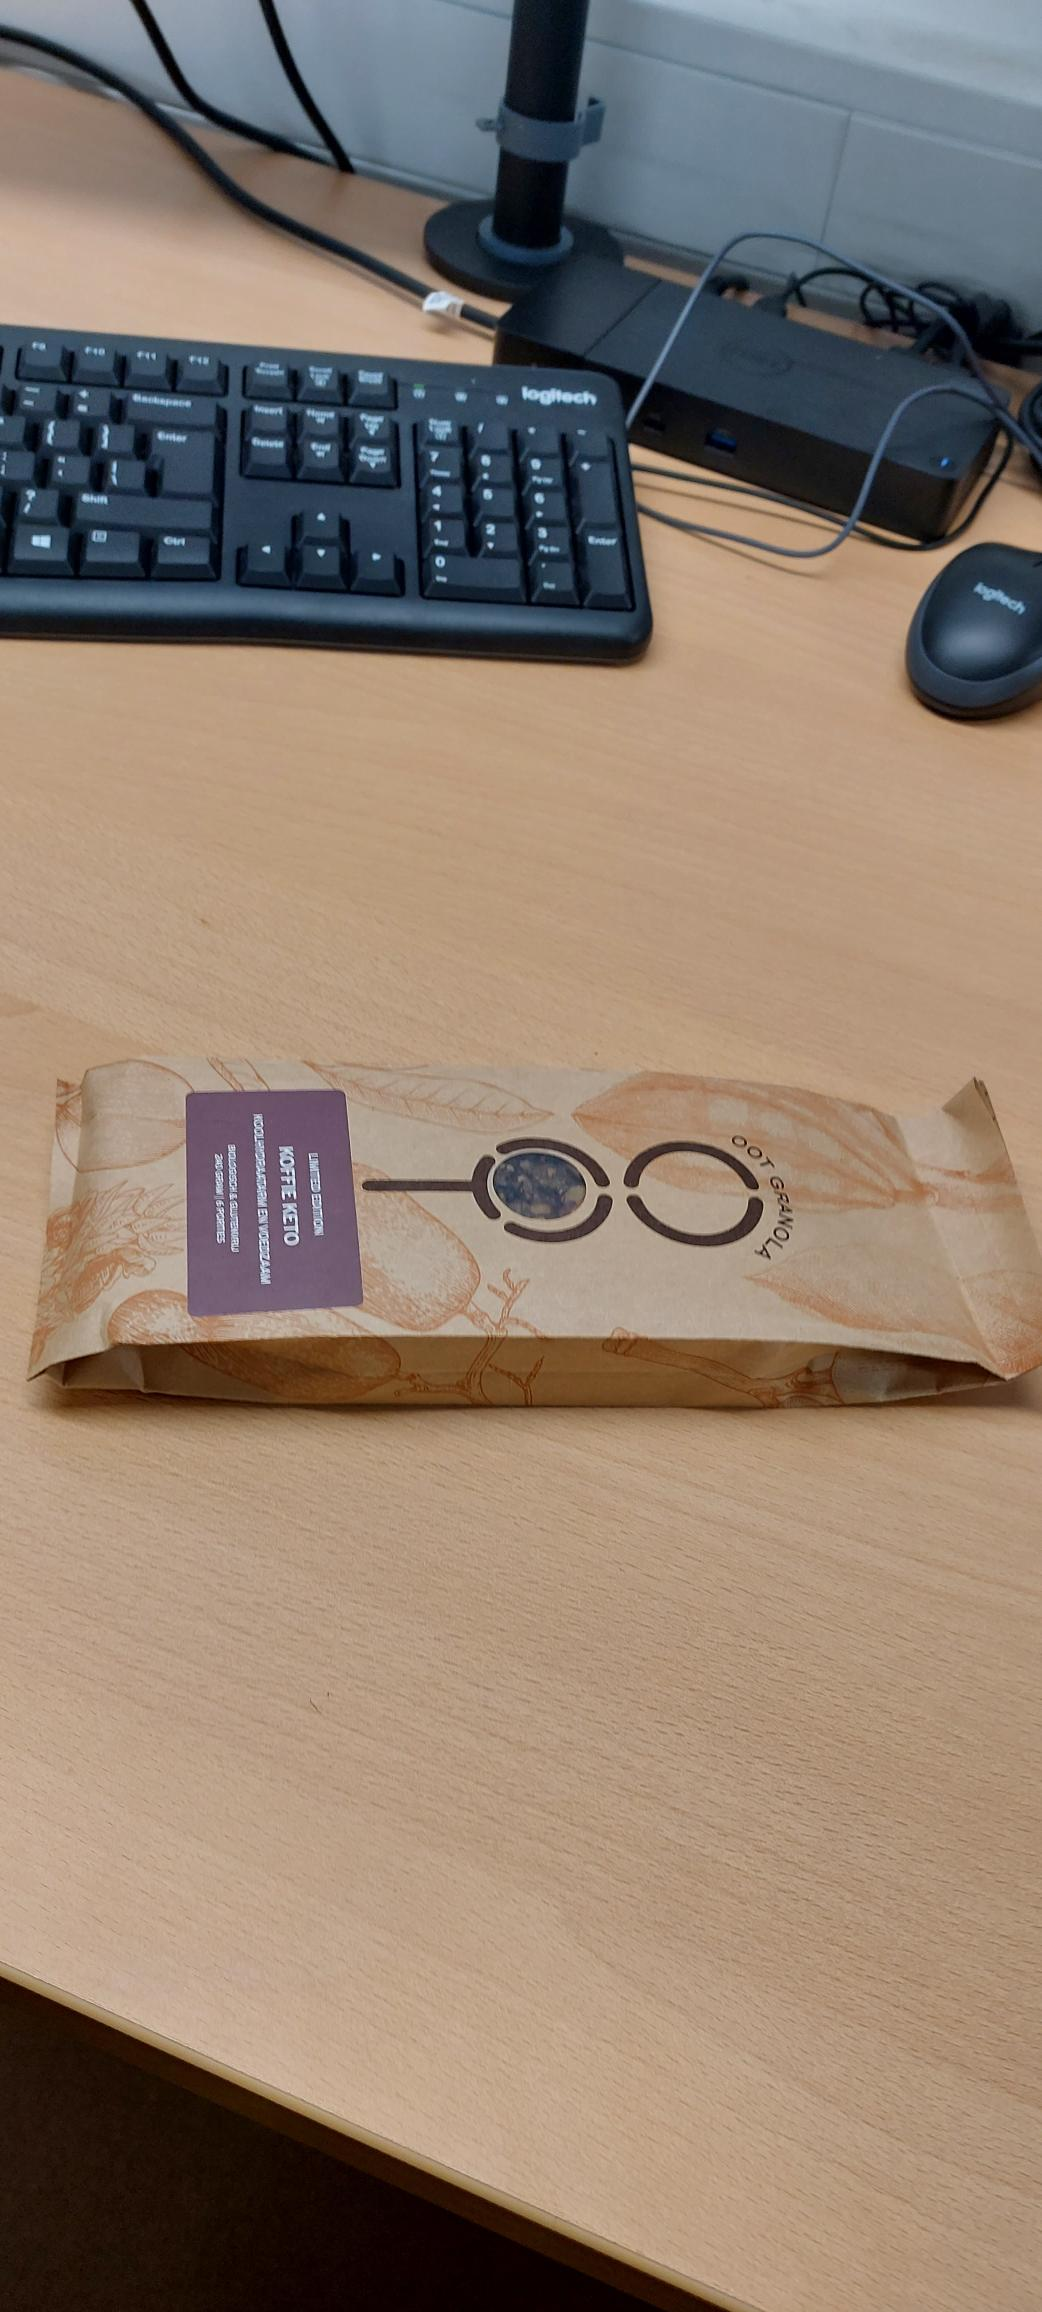KoffieKeto: (169, 1076, 379, 1321)
